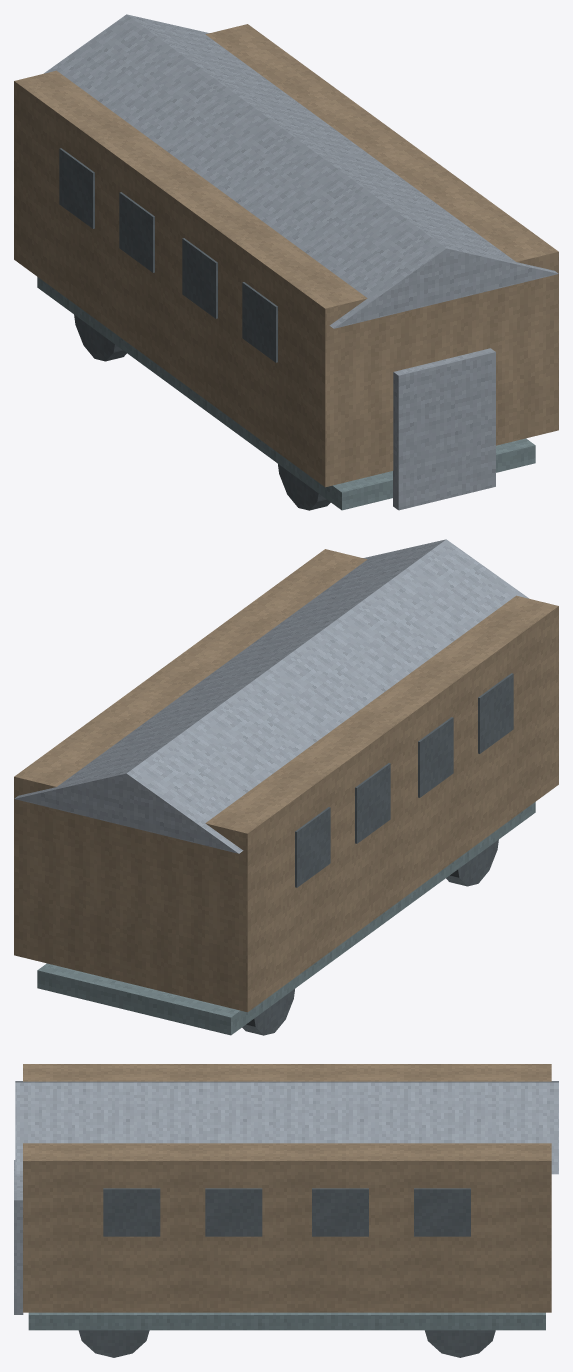
Rendered from level_blockout_railway_passenger_coach.glb.
The picture shows the model from 3 angles, top to bottom: view 1: azimuth 30°, elevation 25°; view 2: azimuth 150°, elevation 25°; view 3: azimuth 270°, elevation 25°; orthographic projection. The views are drawn at different scales.
Parts seen in each view (by area): view 1: level_blockout_railway_passenger_coach; view 2: level_blockout_railway_passenger_coach; view 3: level_blockout_railway_passenger_coach.
Boxes of the visible parts, box(x1,y1,x2,y2) form: level_blockout_railway_passenger_coach: box(14, 14, 558, 510); level_blockout_railway_passenger_coach: box(14, 539, 558, 1035); level_blockout_railway_passenger_coach: box(14, 1064, 558, 1357).
Bounding box in the file's own units: 2.49 × 2.81 × 5.83.
4 materials, 4 textured.
